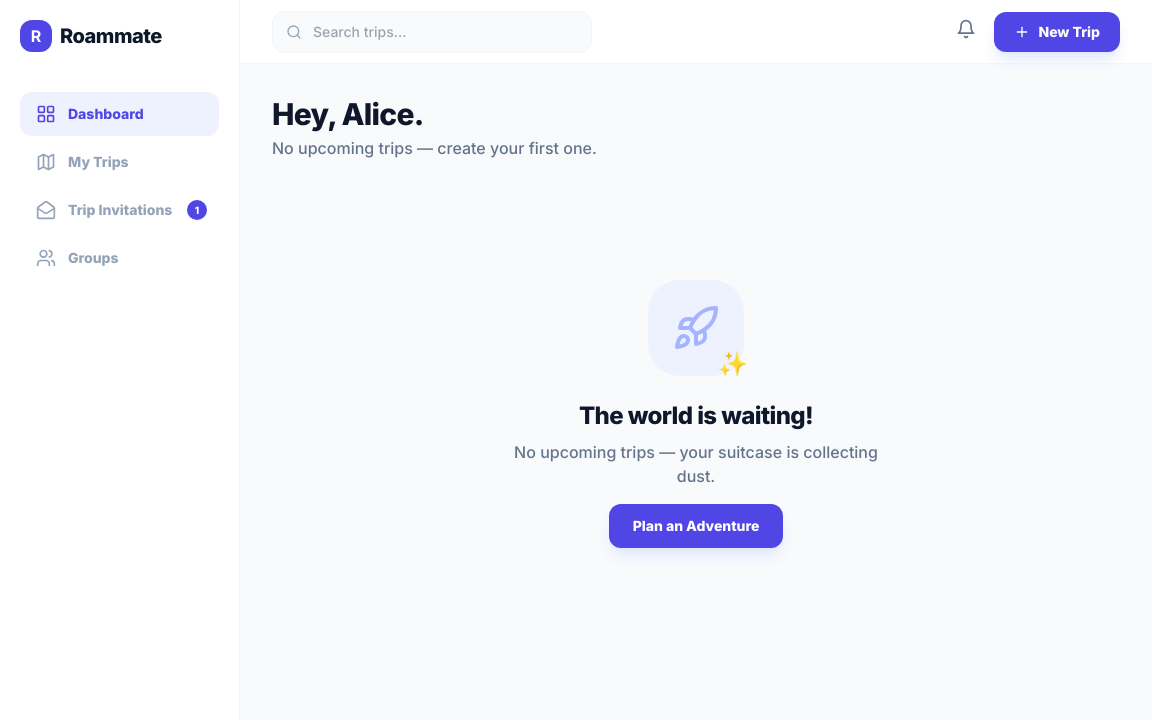
Test: DashboardPage — invitations › shows the invitation card with trip name and inviter
Step 1. Click the button "Trip Invitations" → point(120, 210), box [20, 188, 219, 232]
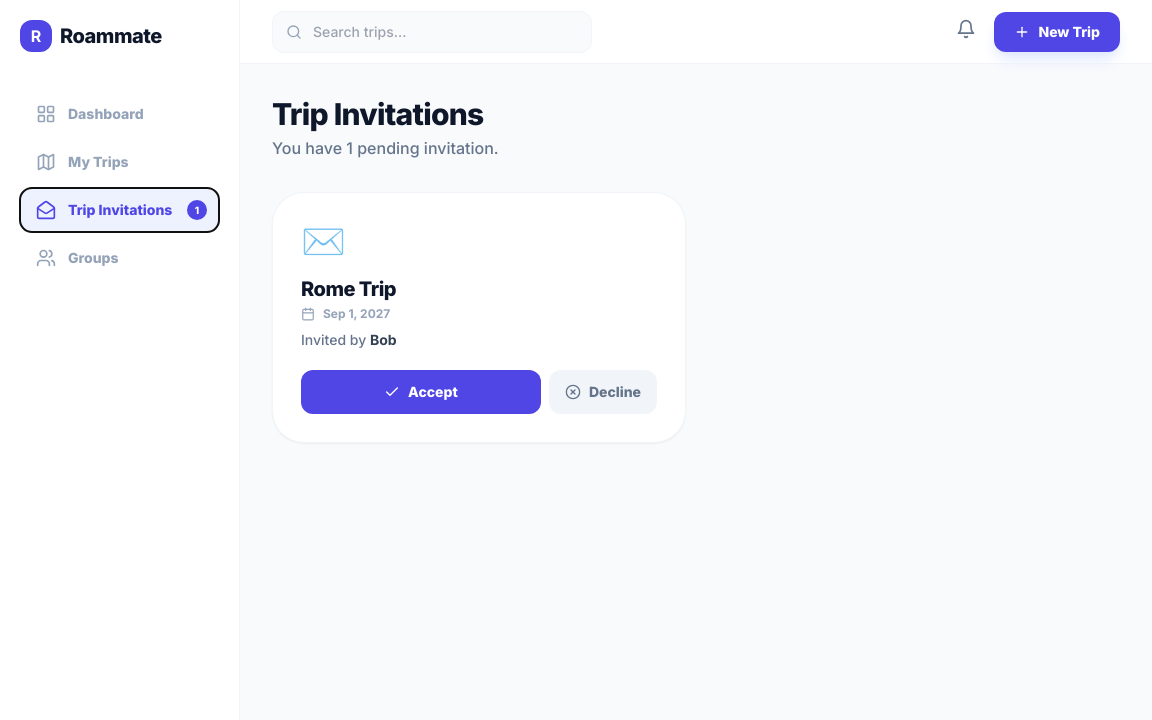
Check: the heading "Rome Trip" is shown, box [301, 277, 396, 301]
Check: the text "Bob" is shown, box [370, 331, 397, 348]
